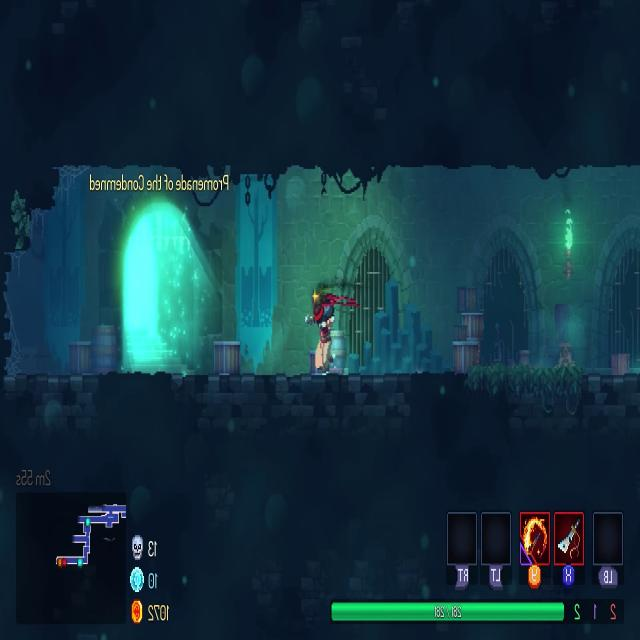agents: (302, 285, 342, 377)
door_nextLevel: (82, 168, 245, 376)
